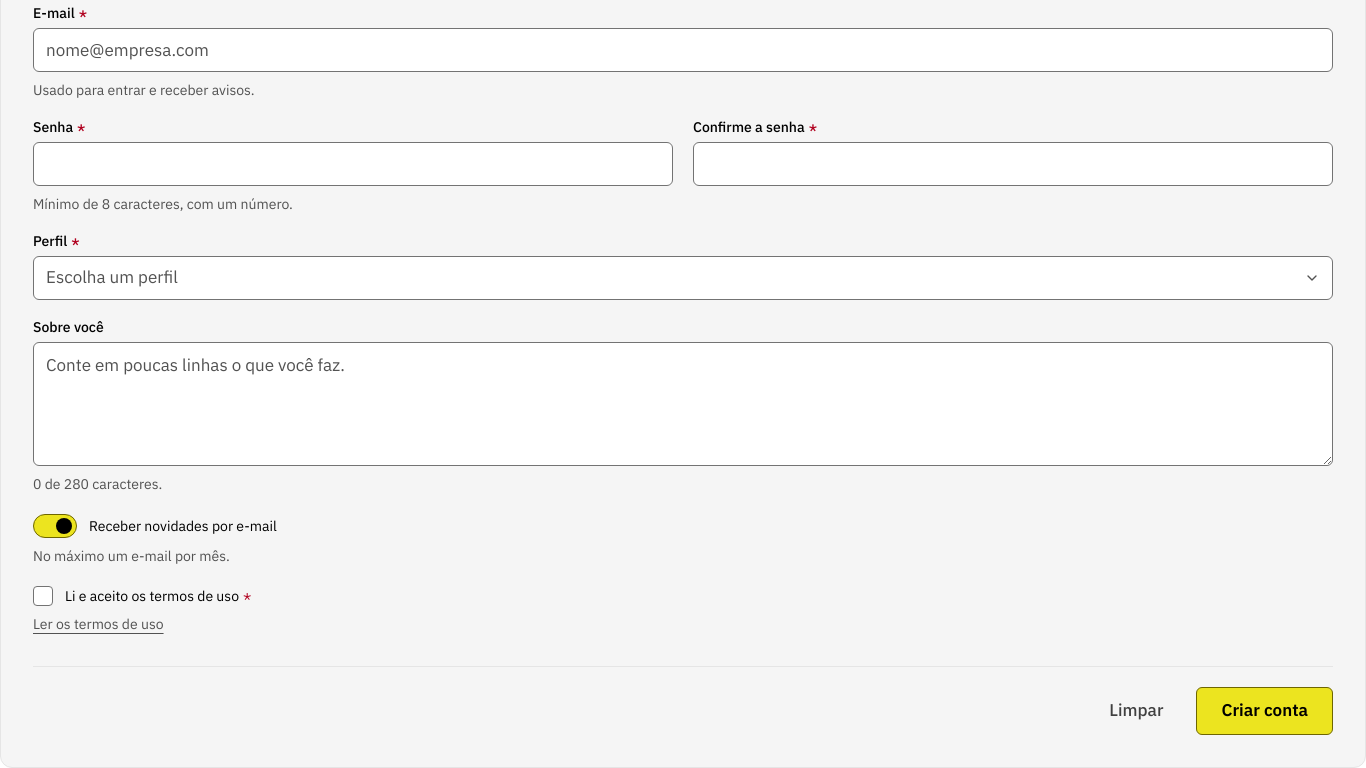
Scenario: signup example › shows accessible errors on empty submit
This screenshot has width=1366, height=768.
(page scrolled)
Step 1. Click the button "Criar conta" → coordinates (1265, 711), box [1196,687,1333,735]
(page scrolled)
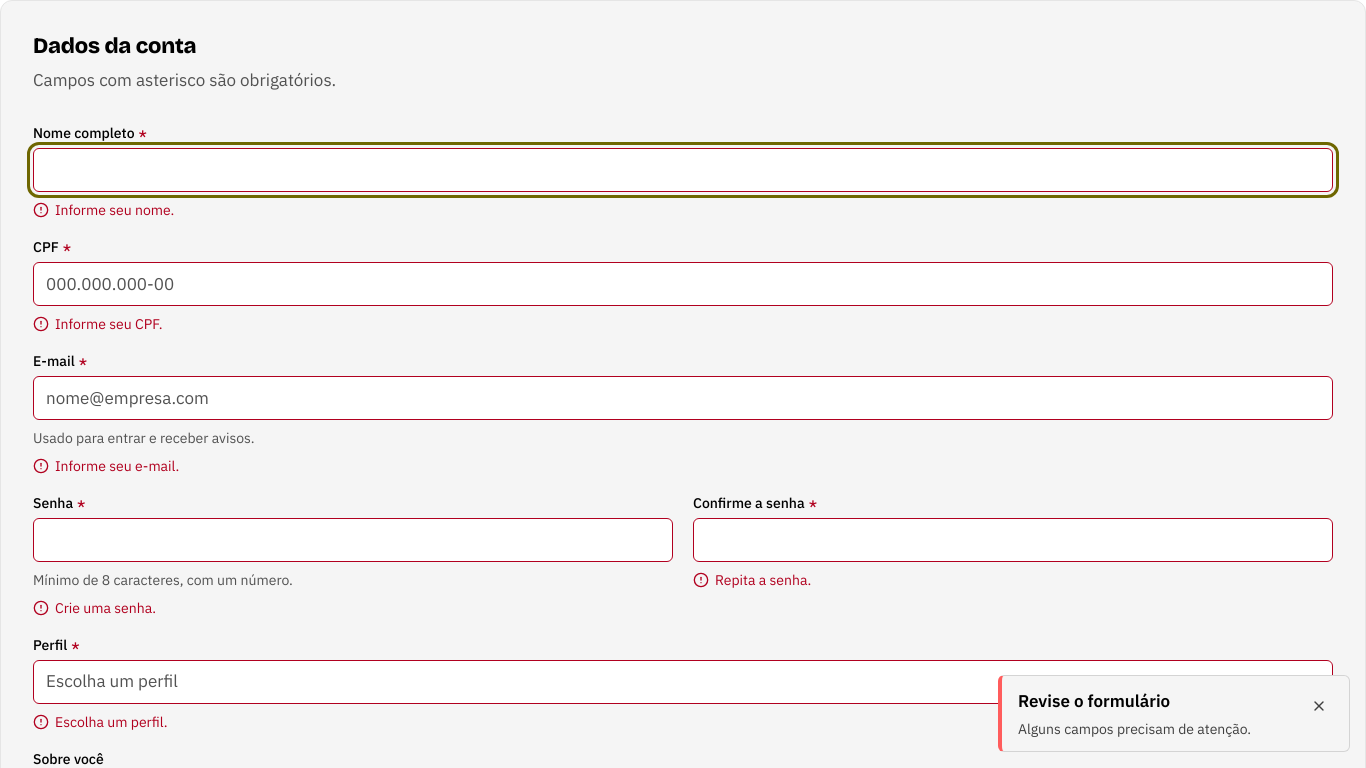
Result: the text "Informe seu nome." is shown at [33,201,174,219]
Result: the text "Escolha um perfil." is shown at [33,713,168,731]
Result: the text "Revise o formulário" is shown at [1018,690,1170,712]
